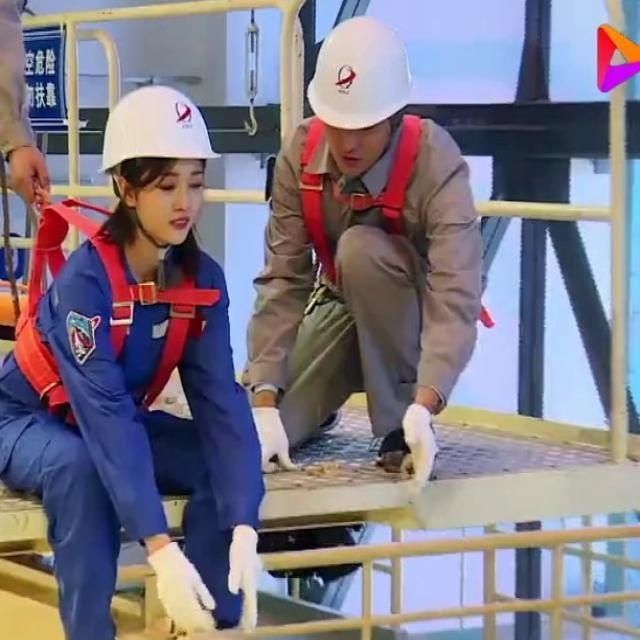Arnes_seguridad: (10, 186, 215, 433), (292, 108, 430, 296)
